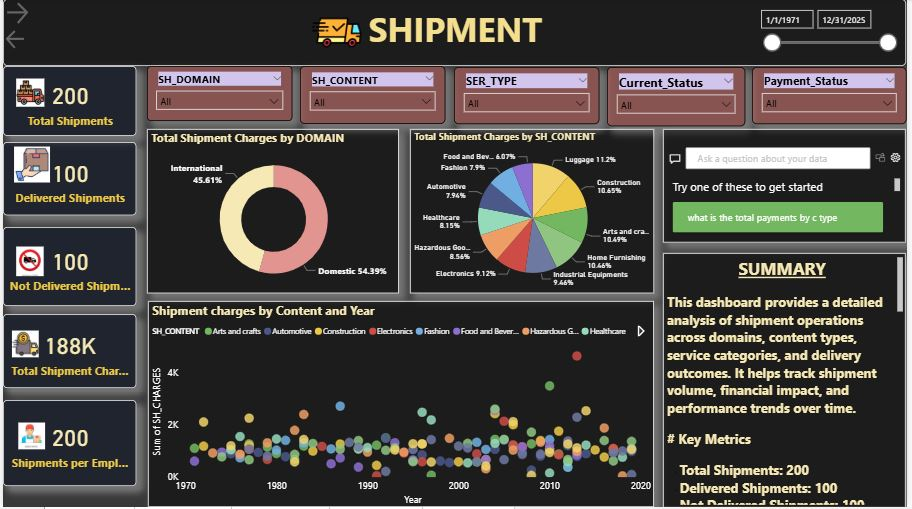

The page's visual inventory and layout, read from the dashboard file:
{"tool":"powerbi","page":{"name":"Shipment","canvas":[1280,720],"ordinal":3},"visuals":[{"type":"textbox","box":[0,0,1280,95.3],"z":0},{"type":"image","box":[308.1,0,331.9,95.3],"z":1000},{"type":"actionButton","box":[0,0,100,40],"z":2000},{"type":"actionButton","box":[0,40.3,100.8,35.3],"z":3000},{"type":"card","fields":{"Values":["Status.Total Shipments"]},"box":[0,95,188.6,99.4],"z":4000},{"type":"card","fields":{"Values":["Status.Delivered Shipments"]},"box":[0,203,188.6,103.7],"z":5000},{"type":"card","fields":{"Values":["Status.Not Delivered Shipments"]},"box":[0,322.6,188.6,112.3],"z":6000},{"type":"card","fields":{"Values":["Status.Total Shipment Charges"]},"box":[0,446.4,188.6,105.1],"z":7000},{"type":"card","fields":{"Values":["Shipment_Details.Shipments per Employee"]},"box":[0,568.8,188.6,122.4],"z":8000},{"type":"donutChart","title":"Total Shipment Charges by DOMAIN","fields":{"Category":["Shipment_Details.SH_DOMAIN"],"Y":["Status.Total Shipment Charges"]},"box":[204.5,184.3,357.1,233.3],"z":9000},{"type":"pieChart","title":"Total Shipment Charges by SH_CONTENT","fields":{"Y":["Status.Total Shipment Charges"],"Category":["Shipment_Details.SH_CONTENT"]},"box":[576.2,184.8,346,233.5],"z":10000},{"type":"scatterChart","title":"Shipment charges by Content and Year","fields":{"X":["Status.Sent_date.Variation.Date Hierarchy.Year","Status.Sent_date.Variation.Date Hierarchy.Month","Status.Delivery_date"],"Y":["Sum(Shipment_Details.SH_CHARGES)"],"Series":["Shipment_Details.SH_CONTENT"]},"box":[204.9,428.3,717.3,292.3],"z":11000},{"type":"slicer","fields":{"Values":["Shipment_Details.SH_DOMAIN"]},"box":[204.5,95,205.9,77.8],"z":12000},{"type":"slicer","fields":{"Values":["Shipment_Details.SH_CONTENT"]},"box":[420.5,95,205.9,82.1],"z":13000},{"type":"slicer","fields":{"Values":["Shipment_Details.SER_TYPE"]},"box":[639.4,96.5,205.9,80.6],"z":14000},{"type":"slicer","fields":{"Values":["Status.Current_Status"]},"box":[855.4,96.5,195.8,83.5],"z":15000},{"type":"slicer","fields":{"Values":["Payment_Details.Payment_Status"]},"box":[1061.3,96.5,218.9,80.6],"z":16000},{"type":"slicer","fields":{"Values":["Calendar.Date"]},"box":[1061.6,5.7,214,85],"z":17000},{"type":"image","box":[5.7,107.7,65.2,49.6],"z":18000},{"type":"image","box":[5.7,204.1,70.9,60.9],"z":19000},{"type":"image","box":[5.7,345.8,65.2,52.4],"z":20000},{"type":"image","box":[5.7,464.9,51,48.2],"z":21000},{"type":"image","box":[5.7,595.3,70.9,48.2],"z":22000},{"type":"qnaVisual","box":[935.6,184.8,344.4,161.3],"z":23000},{"type":"textbox","box":[935.6,359.5,344.4,361.2],"z":24000}]}

Visuals, with their boxes in screenshot pixels (x1, y1, x2, y2), scaled from the page's 1280x720 canvas onto the 912x509 screenshot:
textbox: 0,0,911,67
image: 220,0,456,67
actionButton: 0,0,71,28
actionButton: 0,28,72,53
card - Status.Total Shipments: 0,67,134,137
card - Status.Delivered Shipments: 0,144,134,217
card - Status.Not Delivered Shipments: 0,228,134,307
card - Status.Total Shipment Charges: 0,316,134,390
card - Shipment_Details.Shipments per Employee: 0,402,134,489
"Total Shipment Charges by DOMAIN" donutChart: 146,130,400,295
"Total Shipment Charges by SH_CONTENT" pieChart: 411,131,657,296
"Shipment charges by Content and Year" scatterChart: 146,303,657,508
slicer - Shipment_Details.SH_DOMAIN: 146,67,292,122
slicer - Shipment_Details.SH_CONTENT: 300,67,446,125
slicer - Shipment_Details.SER_TYPE: 456,68,602,125
slicer - Status.Current_Status: 609,68,749,127
slicer - Payment_Details.Payment_Status: 756,68,911,125
slicer - Calendar.Date: 756,4,909,64
image: 4,76,51,111
image: 4,144,55,187
image: 4,244,51,282
image: 4,329,40,363
image: 4,421,55,455
qnaVisual: 667,131,911,245
textbox: 667,254,911,508
